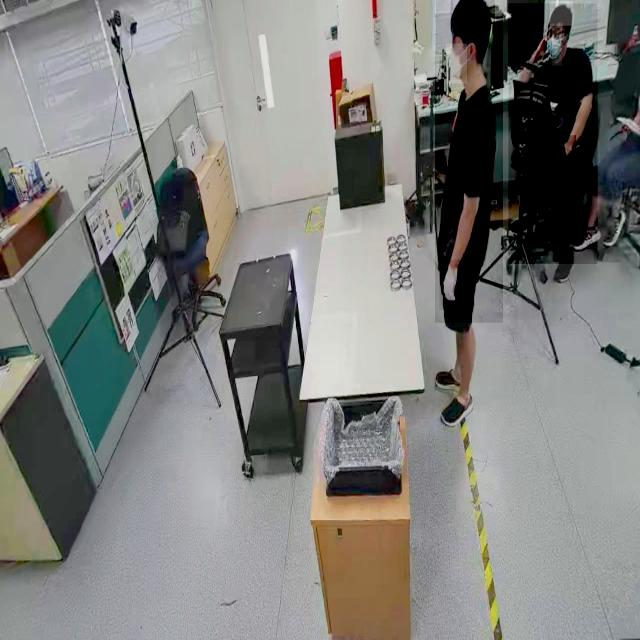face_mask: (445, 44, 467, 84), (546, 29, 562, 67)
hand_glove: (439, 260, 462, 311)
hand_noglove: (528, 29, 552, 68), (561, 135, 576, 165)
head_nohelmet: (450, 0, 495, 25), (549, 1, 573, 27)
person: (508, 3, 598, 265), (435, 14, 503, 324)
shoes: (439, 387, 475, 428), (573, 217, 603, 259), (602, 207, 626, 254), (429, 368, 466, 391)
